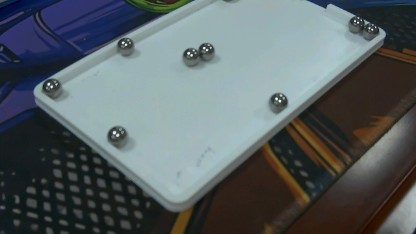ironball: (264, 83, 292, 112), (105, 117, 130, 149), (174, 41, 200, 67), (361, 22, 382, 50), (41, 78, 65, 98), (198, 38, 220, 59), (118, 39, 139, 59), (345, 10, 361, 36)
